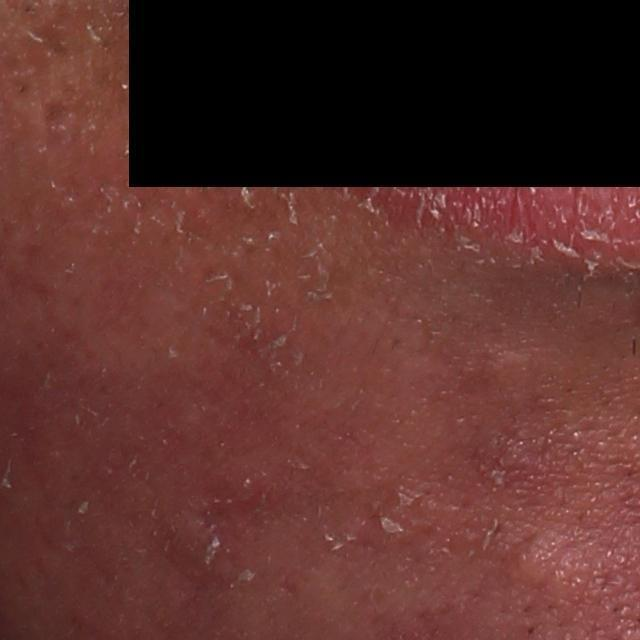hypertrophic_scar: (510, 538, 563, 596)
